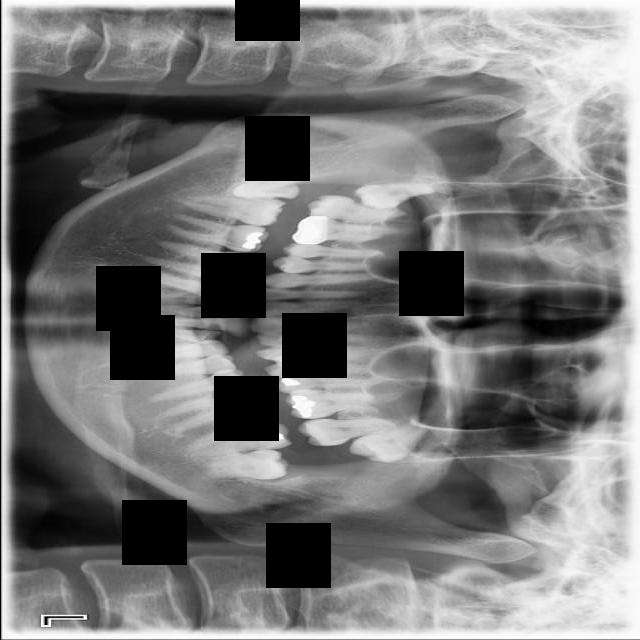3M ESPE Implant: (350, 181, 433, 212)
52: (234, 409, 292, 457), (216, 380, 270, 426), (284, 389, 336, 419), (224, 223, 270, 254), (291, 216, 339, 245), (273, 372, 320, 393), (255, 331, 301, 347)
73: (62, 608, 83, 616)
BioHorizons Implant: (296, 414, 403, 448)
BioLife Implant: (346, 412, 441, 474)
Biomet 3i Implant: (206, 450, 288, 479)
Blue Sky Bio Implant: (183, 411, 291, 460)
Caries: (306, 193, 404, 226)
Implant: (182, 186, 285, 229)
Keystone Dental Implant: (229, 161, 310, 206)
